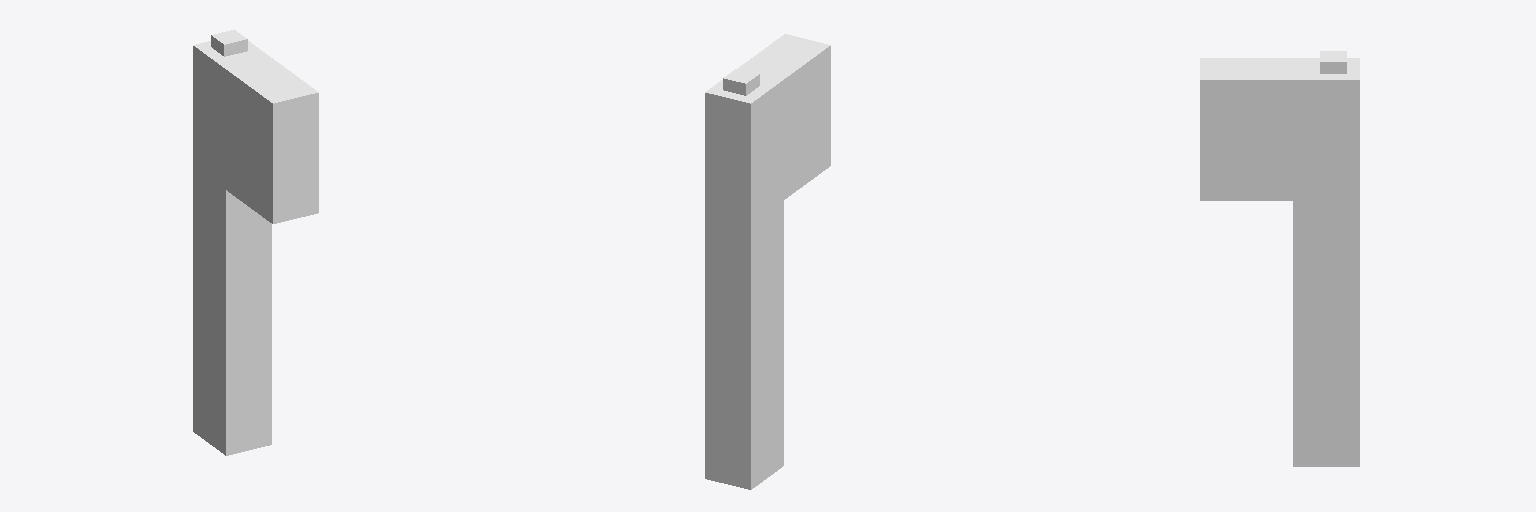
The model's file is EX_Bullet.obj.
3 renders of one model, left to right at view 1: azimuth 30°, elevation 25°; view 2: azimuth 150°, elevation 25°; view 3: azimuth 270°, elevation 25°, orthographic.
Parts seen in each view (by area): view 1: object 1; view 2: object 1; view 3: object 1.
Part boxes in pixels (bbox=[...]): object 1: bbox=[193, 30, 318, 455]; object 1: bbox=[705, 34, 830, 489]; object 1: bbox=[1200, 51, 1359, 466].
Bounding box in the file's own units: 0.4 × 3.3 × 1.2.